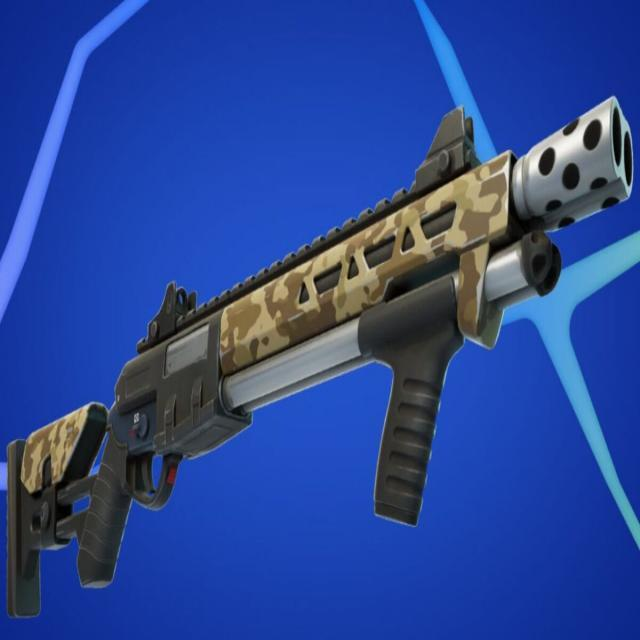shotgun: (0, 76, 638, 640)
